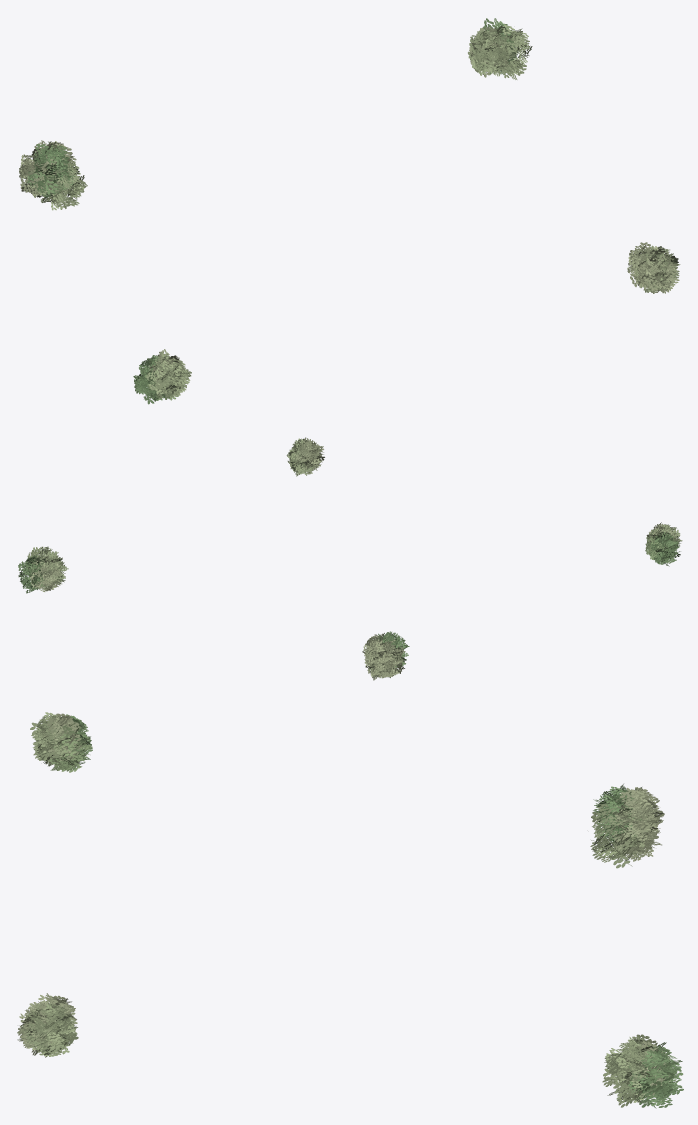
The model's file is campus-tree-4_-3-near.glb.
3 views of the same model, one above another, from view 1: azimuth 30°, elevation 25°; view 2: azimuth 150°, elevation 25°; view 3: azimuth 270°, elevation 25° (orthographic). The views are drawn at different scales.
Visible parts, largest first — view 1: Campus leaf canopy; view 2: Campus leaf canopy; view 3: Campus leaf canopy.
Boxes of the visible parts, <box> form: Campus leaf canopy: <box>19,18,680,404</box>; Campus leaf canopy: <box>18,437,682,680</box>; Campus leaf canopy: <box>17,712,683,1108</box>.
Bounding box in the file's own units: 59.41 × 6.43 × 46.23.
Materials: 1 (1 with a texture image).
